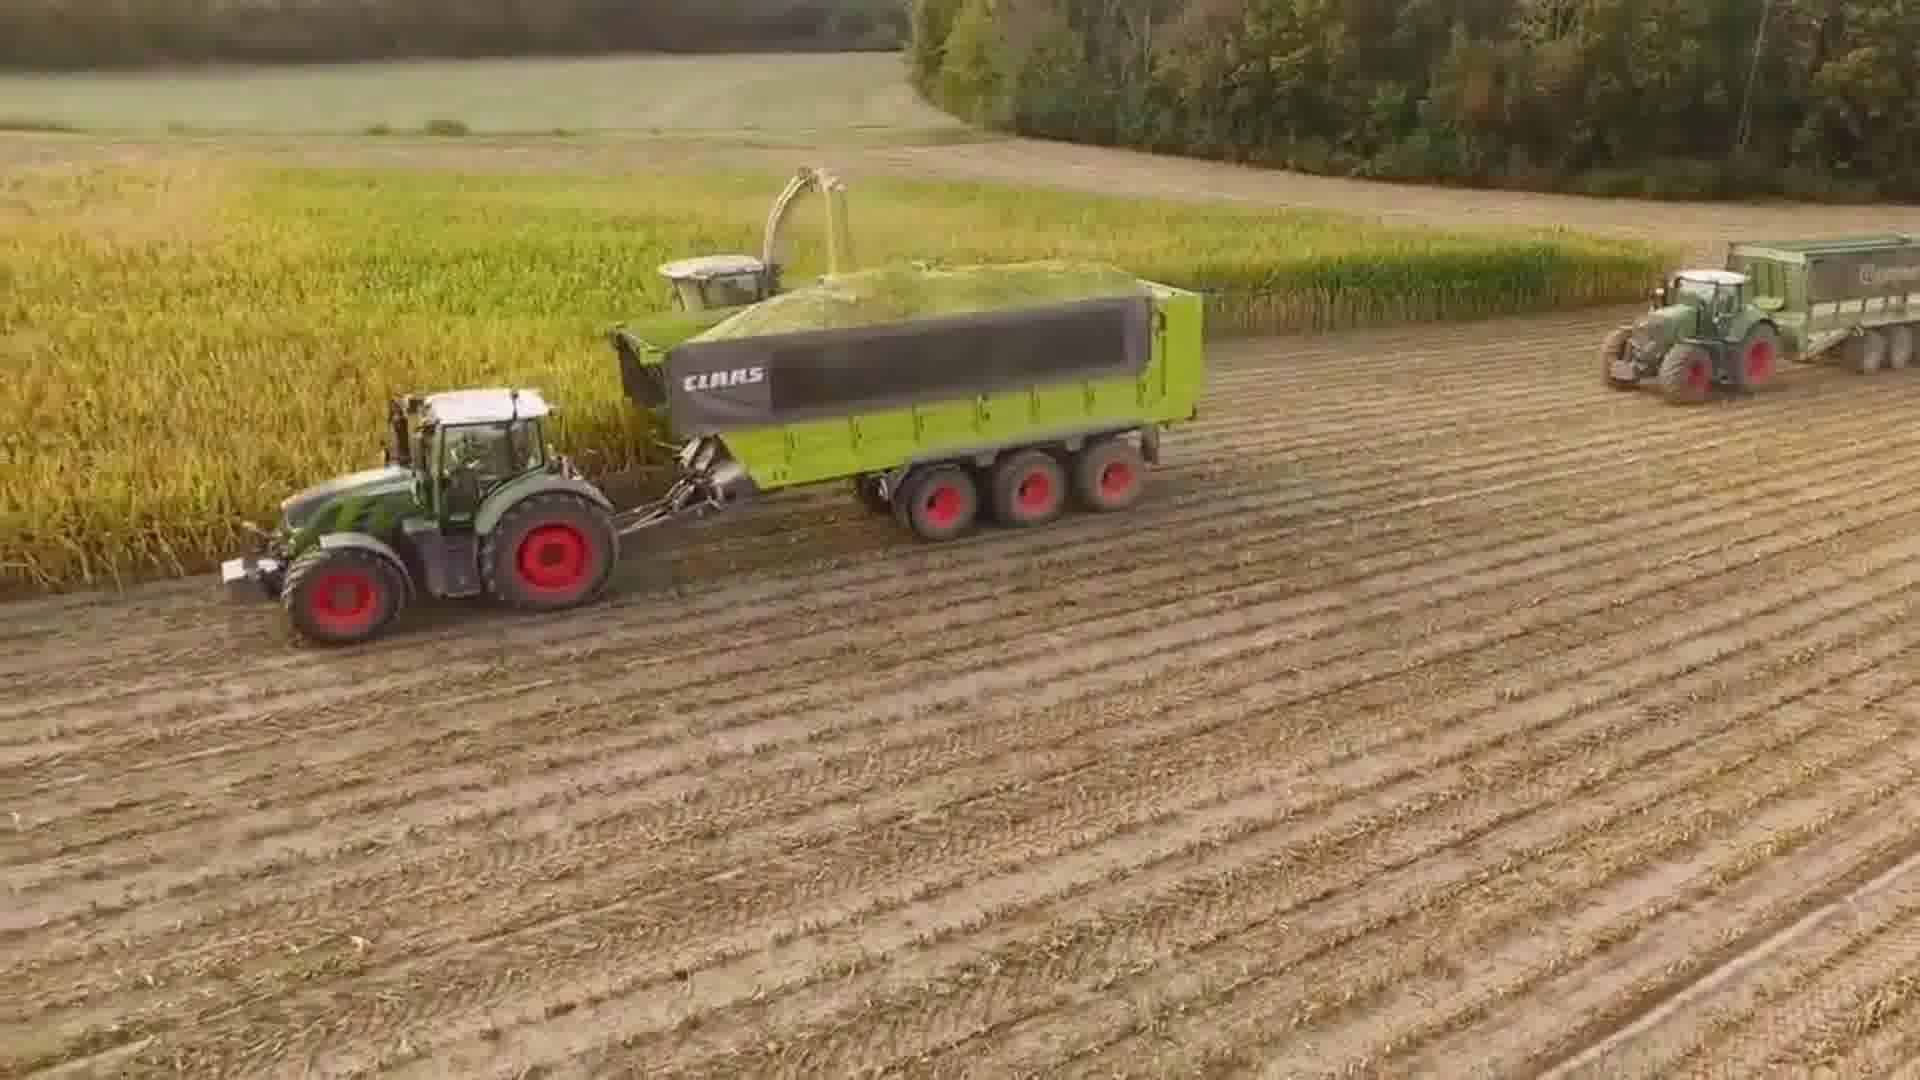combine harvester: (653, 156, 852, 315)
tractor: (211, 378, 630, 649), (1597, 266, 1783, 410)
trailer: (604, 253, 1211, 549), (1721, 224, 1920, 376)
